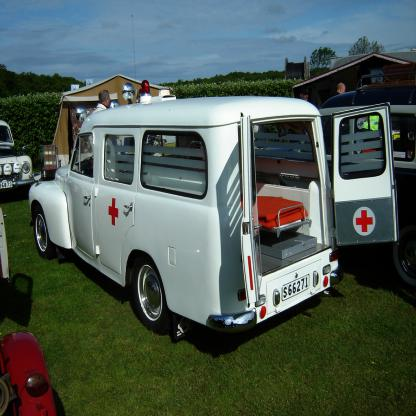Ambulance: (30, 76, 405, 346)
